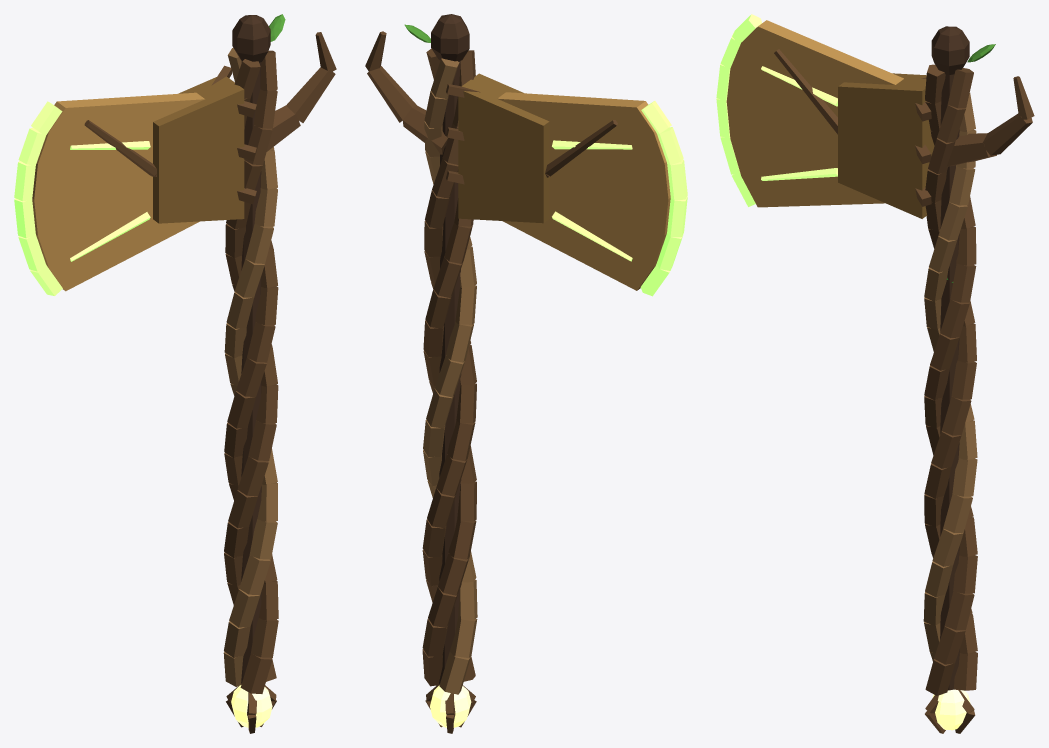
Rendered from roots_hand_axe.glb.
3 views of the same model, side by side, from view 1: azimuth 30°, elevation 25°; view 2: azimuth 150°, elevation 25°; view 3: azimuth 330°, elevation 25° (orthographic).
Parts seen in each view (by area): view 1: roots_hand_axe; view 2: roots_hand_axe; view 3: roots_hand_axe.
Boxes of the visible parts, x1,y1,x2,y2 form: roots_hand_axe: [14, 14, 336, 733]; roots_hand_axe: [365, 14, 687, 733]; roots_hand_axe: [716, 14, 1034, 733].
Size of the model in its own units: 0.6199 by 1.32 by 0.1061.
